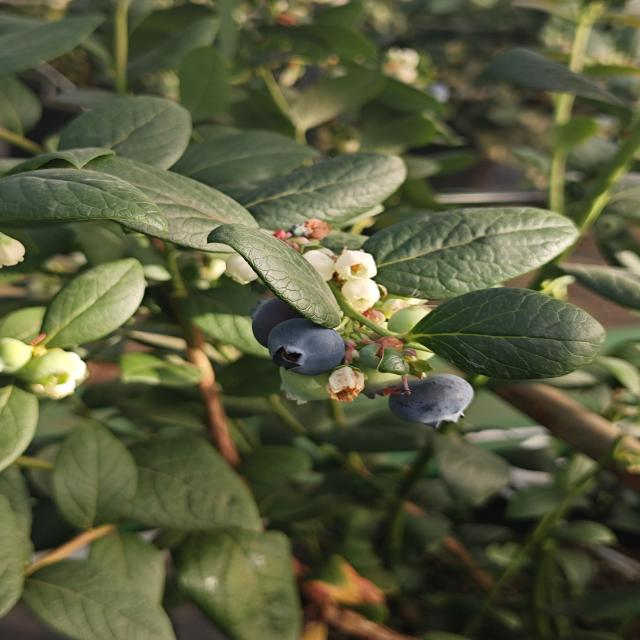ripe: (254, 314, 348, 376), (378, 369, 480, 425), (245, 288, 333, 352)
